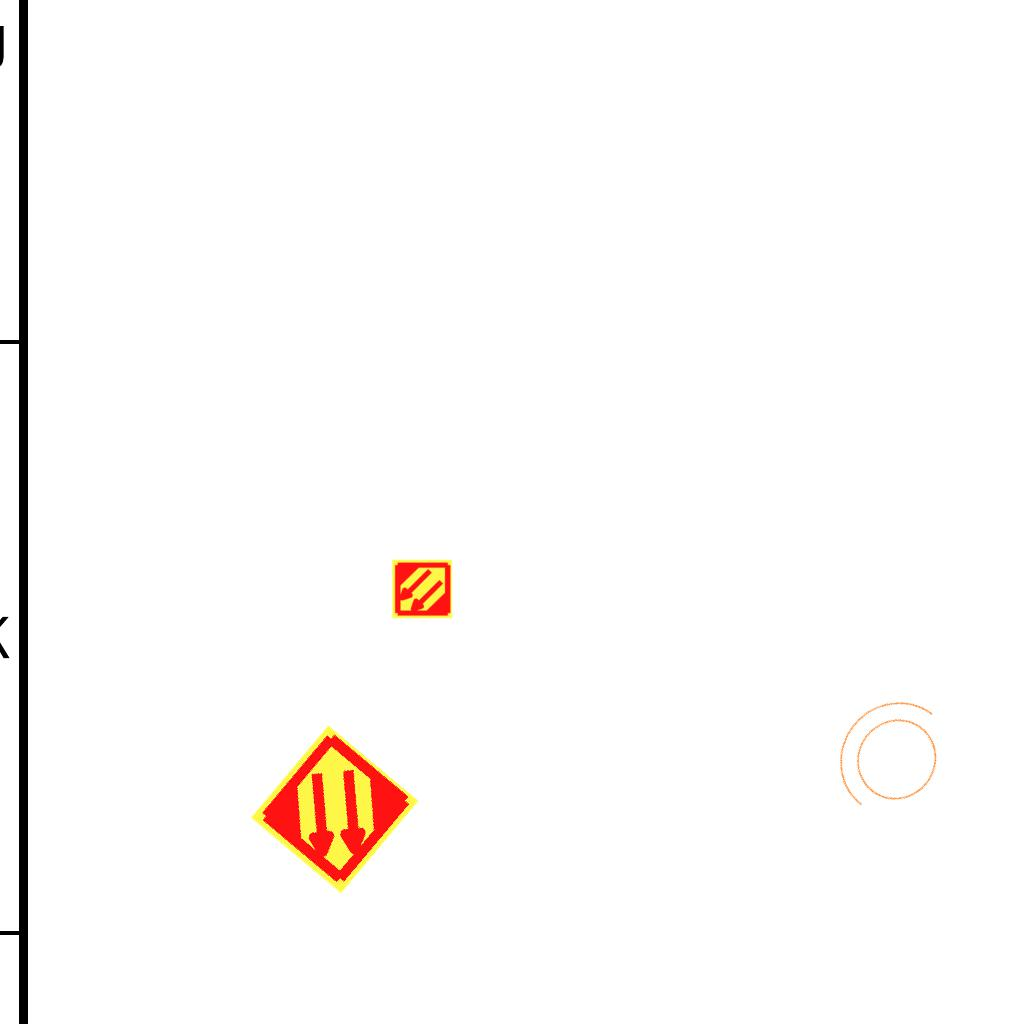ASR_Ansaugrauchmelder: (246, 721, 423, 898), (391, 558, 453, 620)
Scheinwerfer_fuer_Alarmbeleuchtung: (806, 672, 976, 846)
